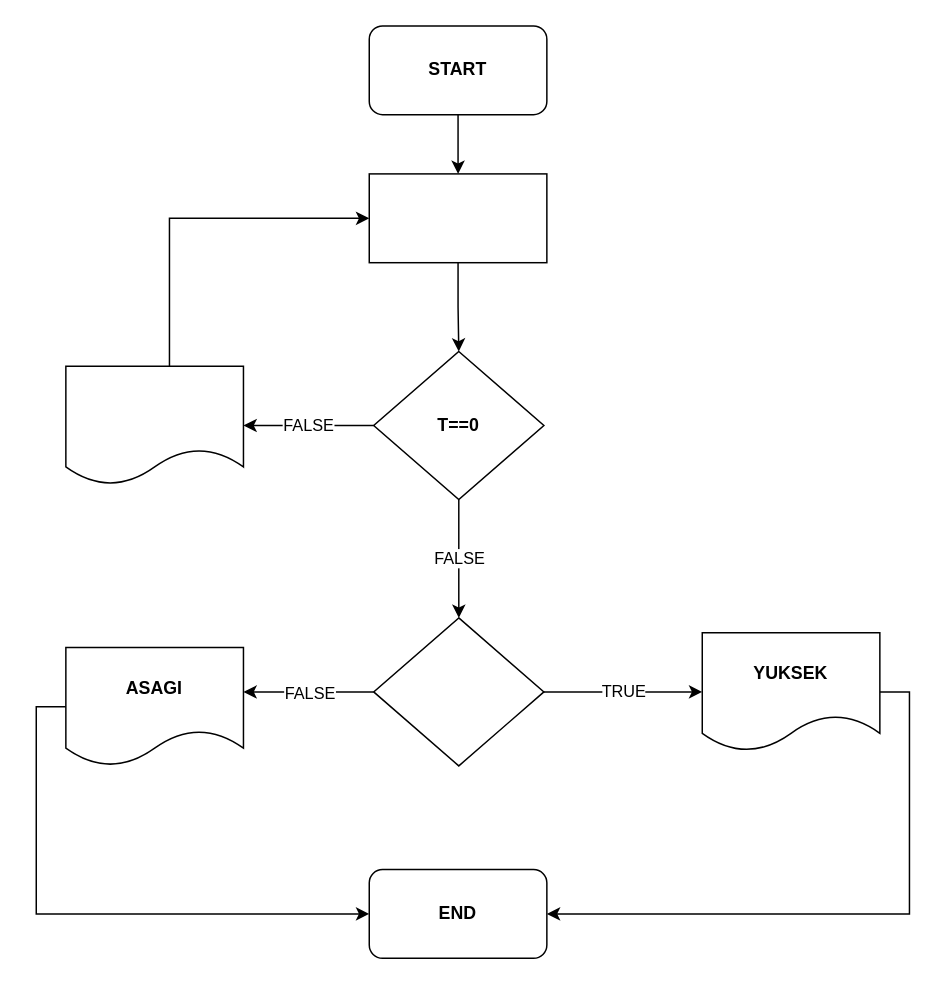
This 947x984 diagram has some shape labels left out. Each missing label, with the centre of its shape:
"ERROR" belongs at (x=153, y=425).
"T>0" belongs at (x=458, y=691).
"TEMPRATURE" belongs at (x=457, y=217).
